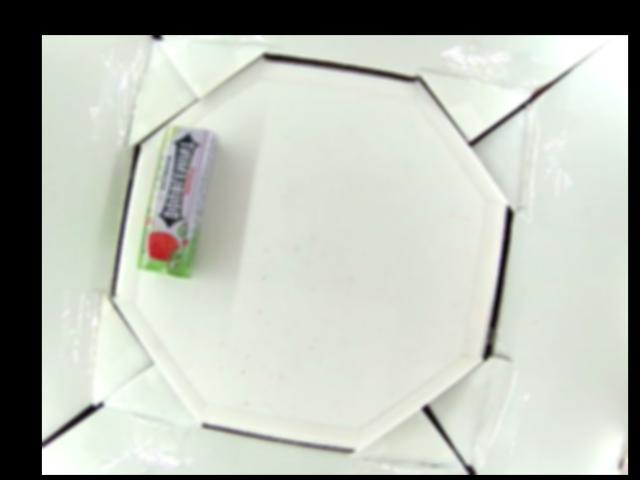Bottle: (135, 124, 219, 280)
